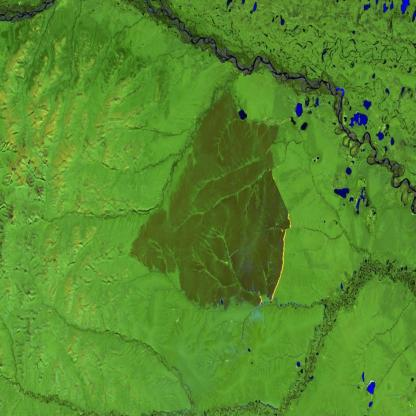fire: (254, 207, 294, 311)
